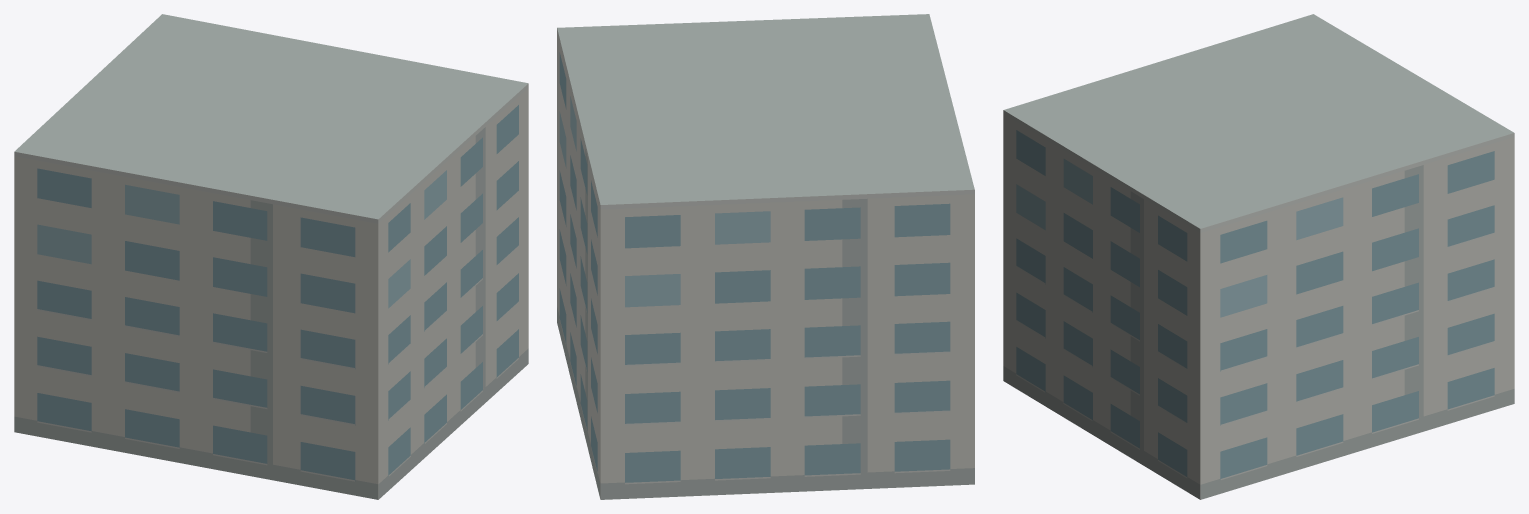
Rendered from survey-upis-32689349.glb.
The picture shows the model from 3 angles, left to right: view 1: azimuth 30°, elevation 25°; view 2: azimuth 150°, elevation 25°; view 3: azimuth 270°, elevation 25°; orthographic projection. The views are drawn at different scales.
Visible parts, largest first — view 1: survey-upis-32689349.tmp; view 2: survey-upis-32689349.tmp; view 3: survey-upis-32689349.tmp.
Boxes of the visible parts, x1,y1,x2,y2 form: survey-upis-32689349.tmp: (14, 14, 528, 499); survey-upis-32689349.tmp: (557, 14, 974, 499); survey-upis-32689349.tmp: (1003, 14, 1514, 499).
Bounding box in the file's own units: 26.12 × 15.35 × 26.25.
